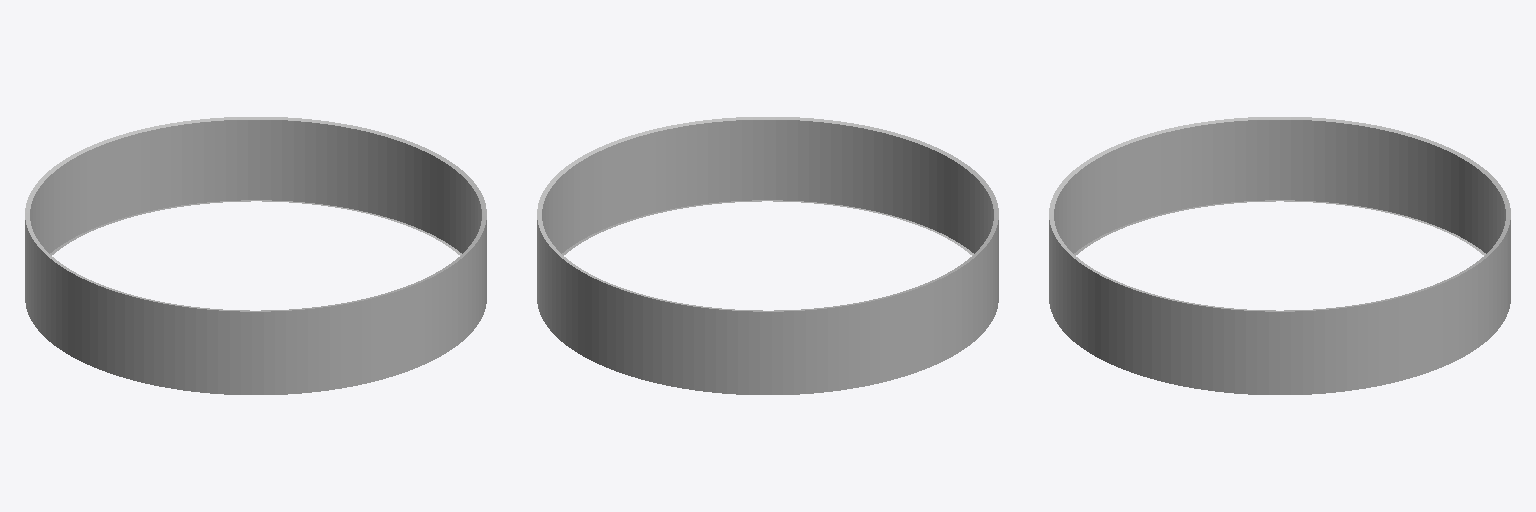
The model's file is fish_tank.obj.
3 views of the same model, side by side, from view 1: azimuth 30°, elevation 25°; view 2: azimuth 150°, elevation 25°; view 3: azimuth 270°, elevation 25° (orthographic).
Visible parts, largest first — view 1: Cylinder; view 2: Cylinder; view 3: Cylinder.
Part boxes in pixels (x1,y1,x2,y2): Cylinder: (25, 117, 486, 394); Cylinder: (537, 117, 998, 394); Cylinder: (1049, 117, 1510, 394).
Bounding box in the file's own units: 15 × 3 × 15.